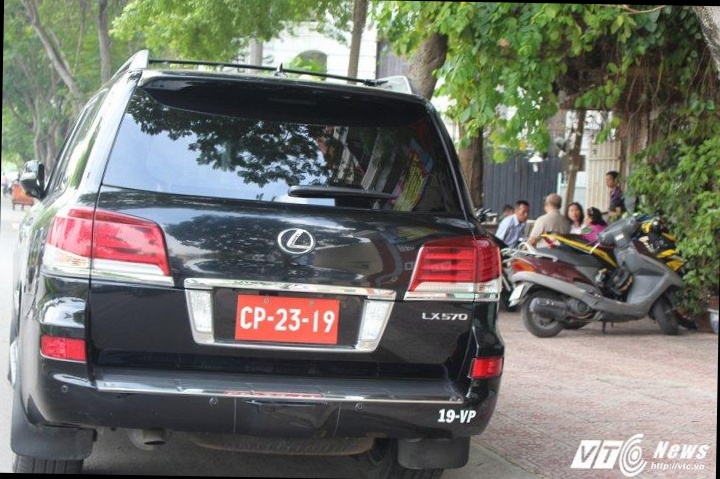plate: (231, 293, 344, 352)
